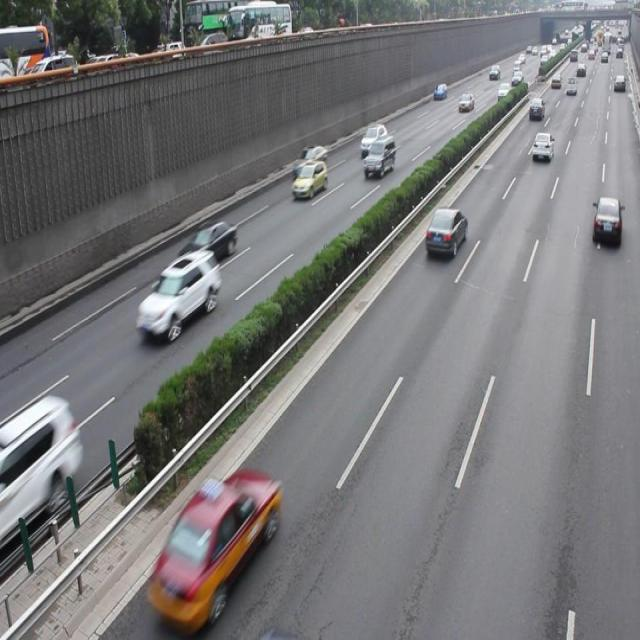car: (148, 469, 279, 626), (1, 396, 78, 545), (135, 250, 220, 343), (177, 216, 236, 268), (424, 204, 467, 258), (591, 196, 620, 246), (291, 161, 327, 200), (363, 135, 394, 177), (292, 142, 327, 173)
